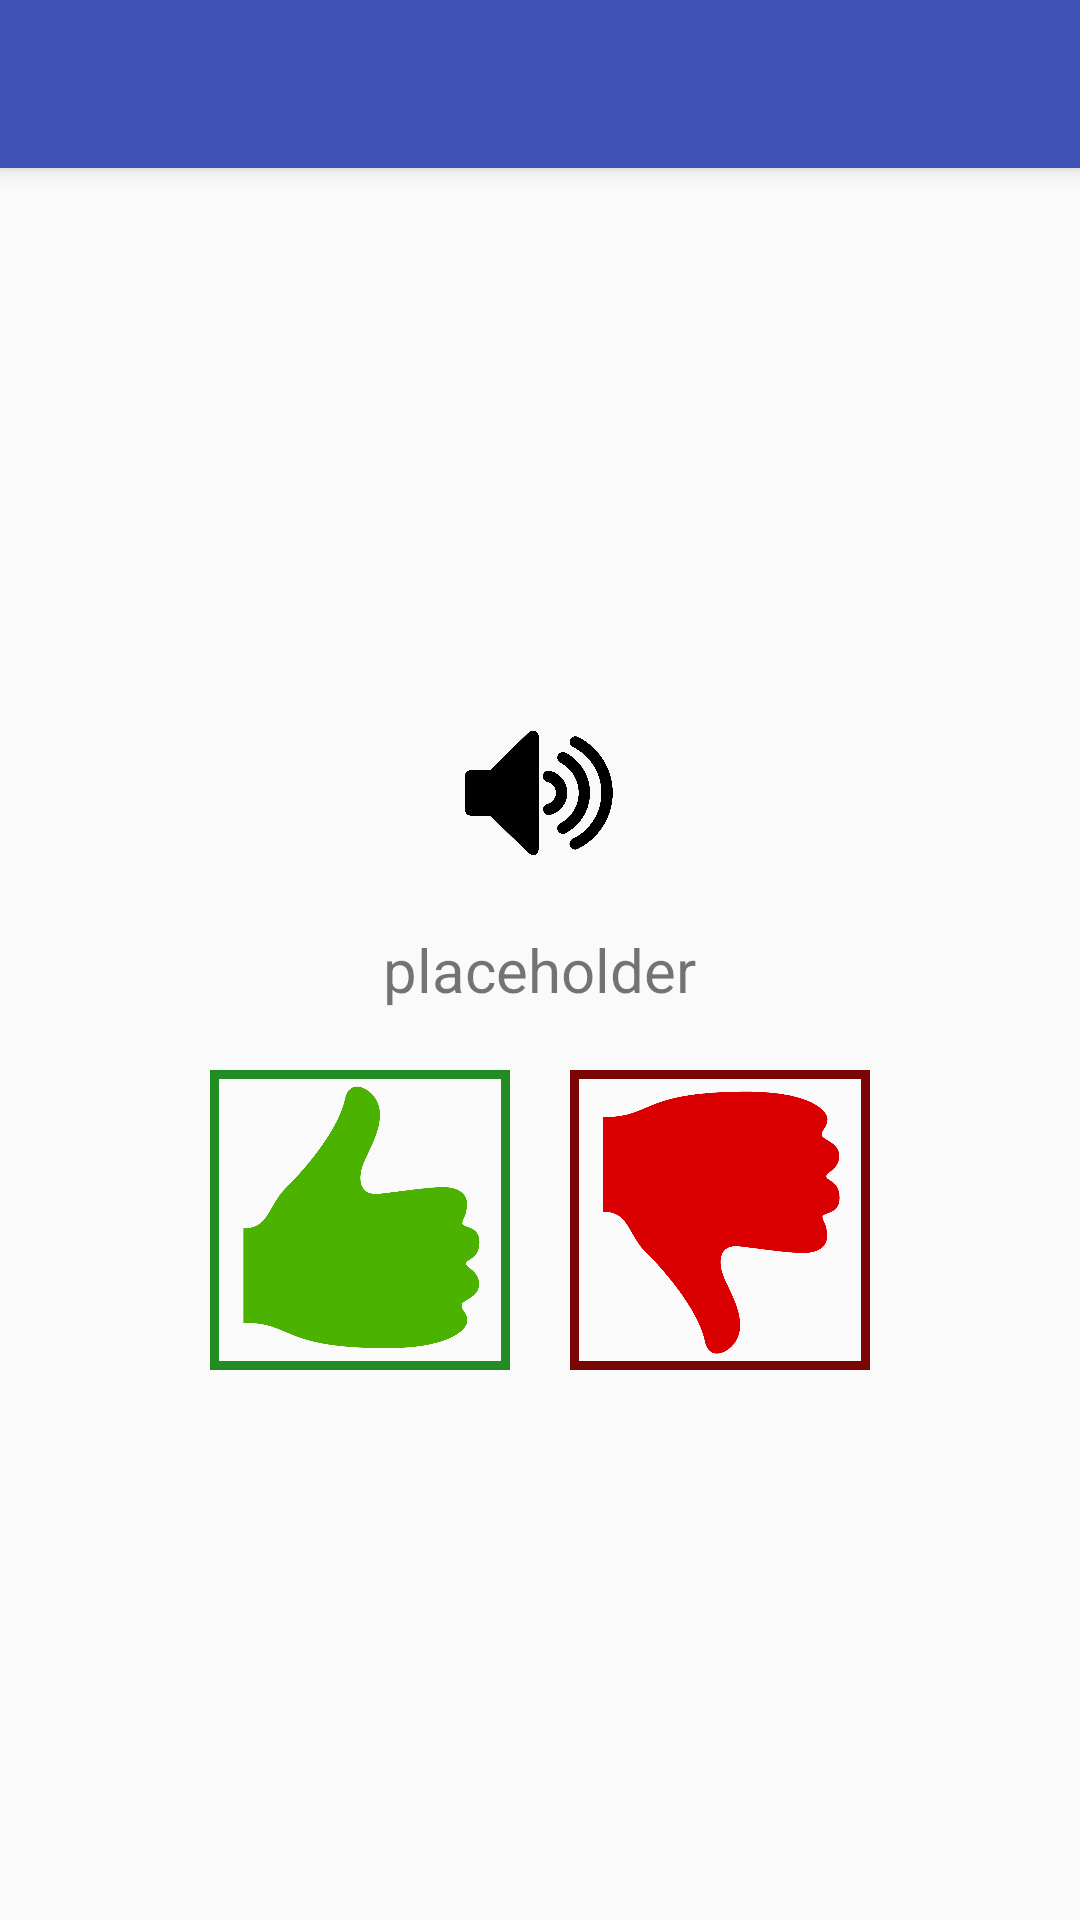

Screen size 1080 × 1920. Icon name, then its center in pixels as (x,y):
audioicon: (539,793)
duimaf: (720,1220)
duimop: (360,1220)
